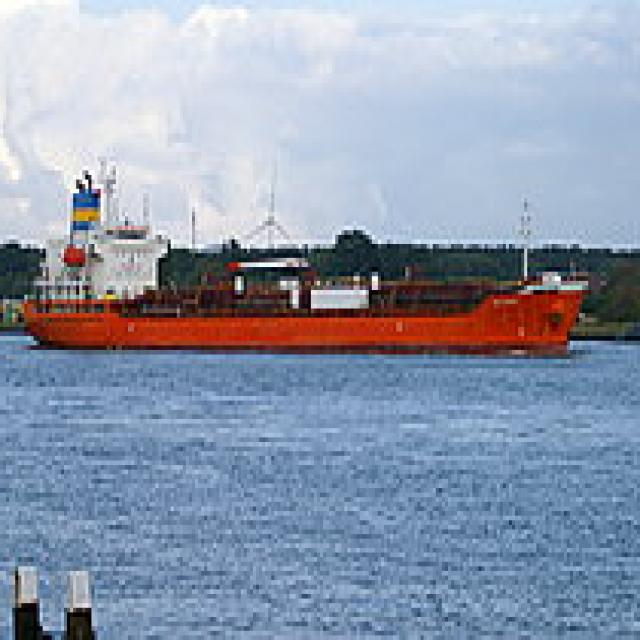Tanker: (21, 161, 598, 355)
